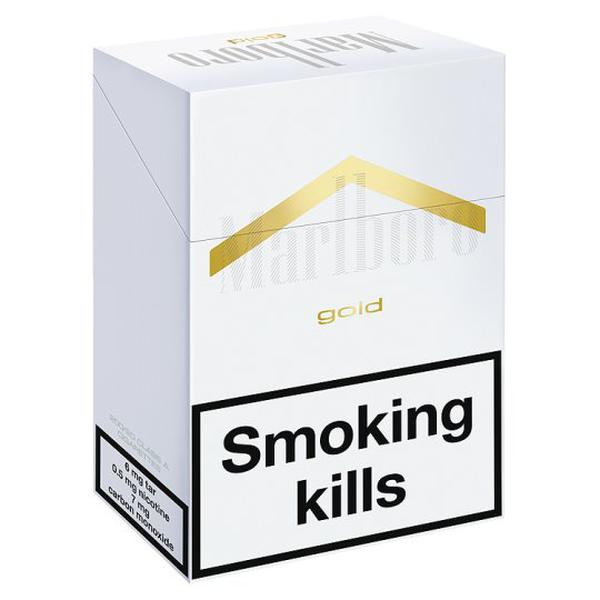marlboro_gold: (195, 82, 500, 516)
